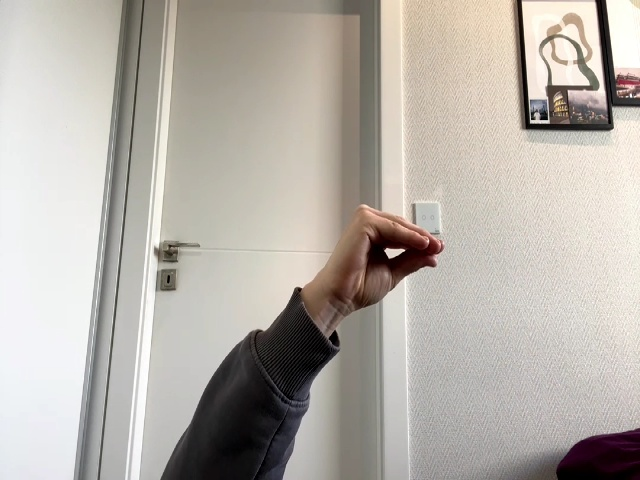E: (319, 205, 445, 329)
